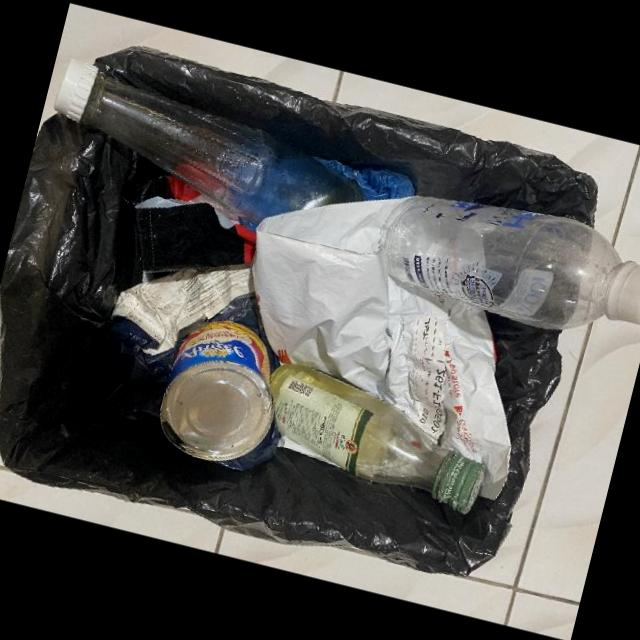chai_thuy_tinh: (52, 59, 365, 224), (254, 364, 485, 515)
nhom: (159, 321, 274, 461)
tui_ni_long: (252, 195, 511, 501), (104, 263, 280, 387)
